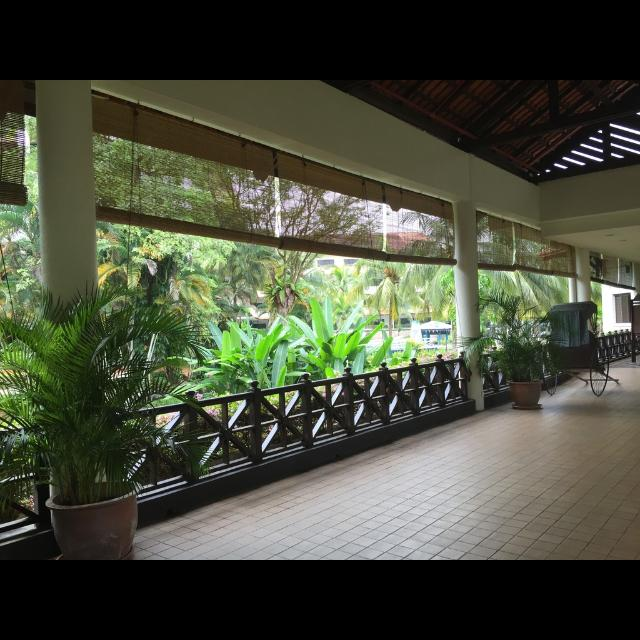Flower: (418, 349, 458, 363), (154, 412, 178, 428), (206, 406, 220, 420), (265, 396, 279, 410), (327, 369, 343, 378), (195, 392, 202, 398), (340, 392, 346, 396), (488, 344, 492, 350), (234, 424, 238, 428), (322, 392, 326, 396)
